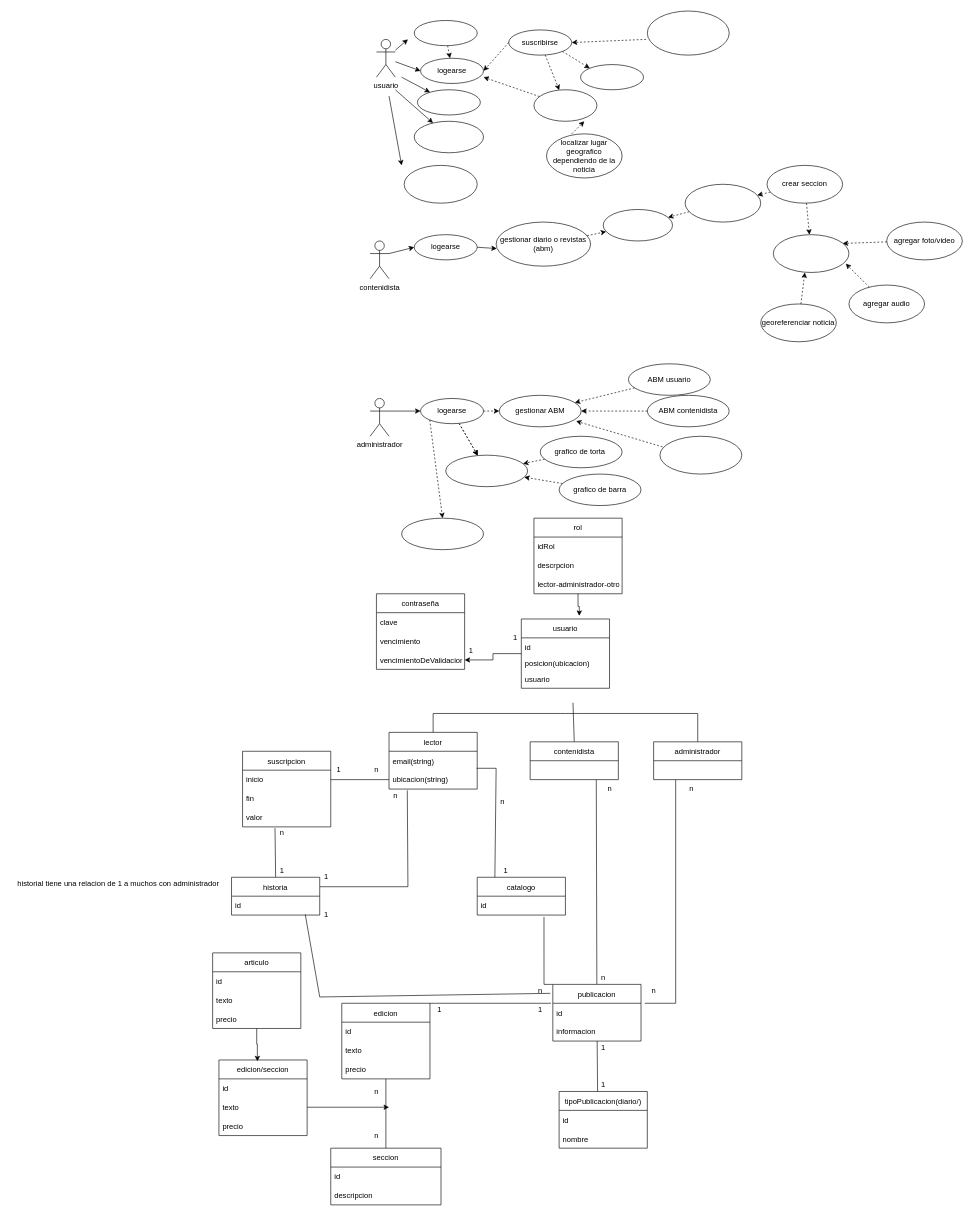
Image size: 973x1216. Some labels were removed from this diagram. The centre of each missing label's shape, as x and y in pixels:
"ABM de componenra de la revista" goes at point 700,455.
"crear articulo" goes at point 811,253.
"crear edicion" goes at point 722,203.
"crear publicacion" goes at point 638,225.
"desuscribirse" goes at point 612,77.
"generar grafico" goes at point 486,471.
"generar lista descargable pdf" goes at point 442,534.
"imprimir resum pagos o suscripciones desadas" goes at point 688,32.
"pagar producto mensual o por producto" goes at point 440,184.
"registrarse" goes at point 445,33.
"ver cata.Productos" goes at point 448,102.
"ver noticias/revistas (pagadas)" goes at point 565,105.
"ver pronostico" goes at point 449,137.
